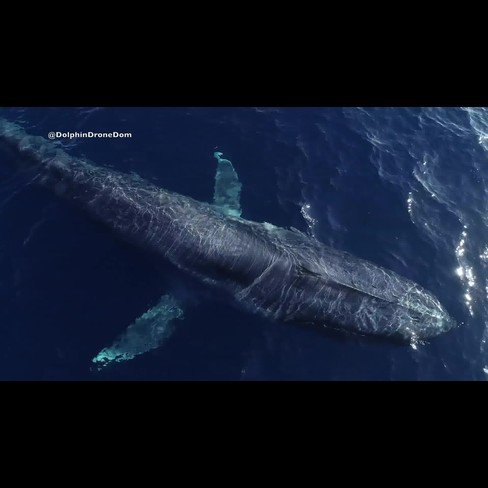bluewhale: (1, 117, 460, 374)
